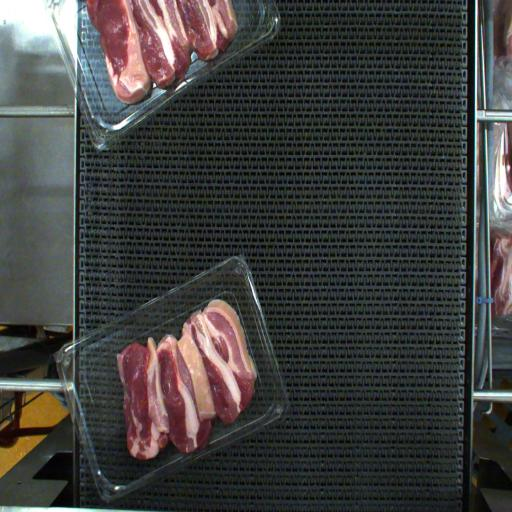twisted-meat: (174, 328, 216, 431)
